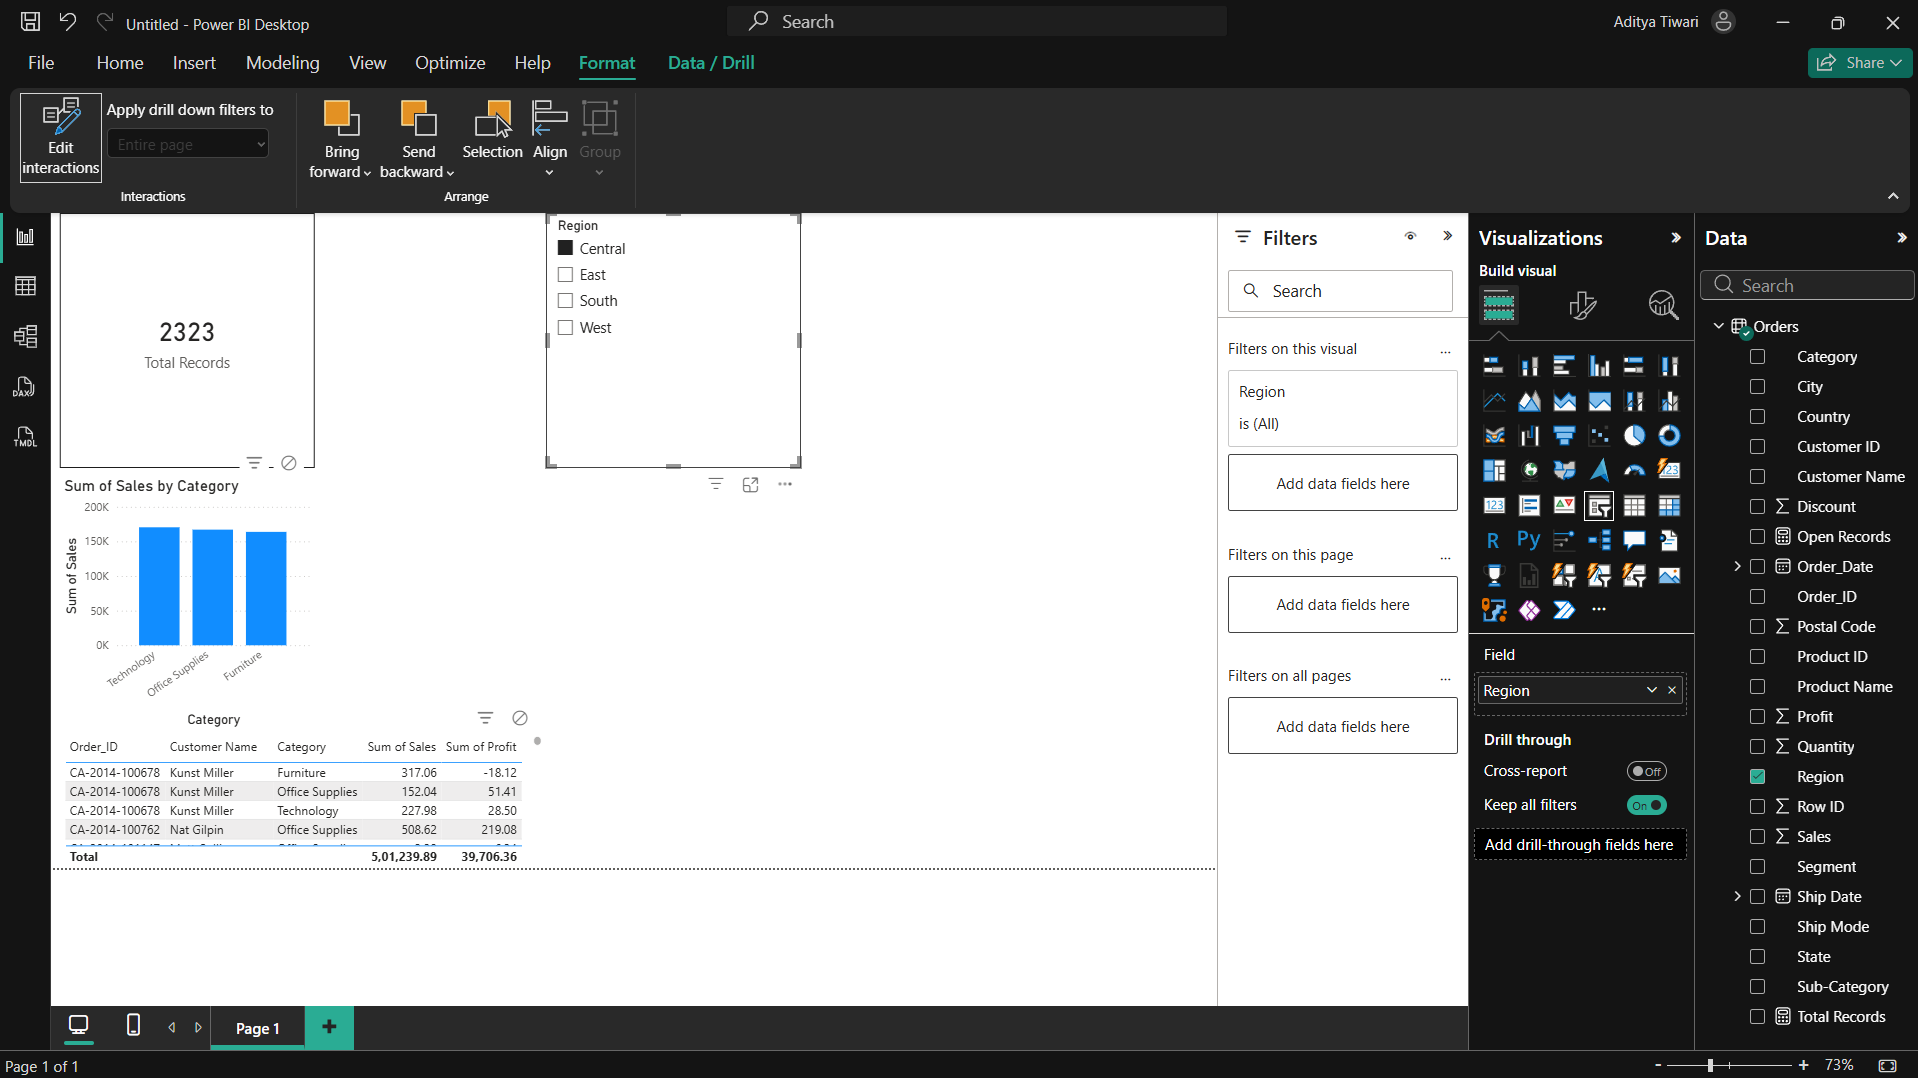

What the dashboard file says about the page in this screenshot:
{"tool":"powerbi","page":{"name":"Page 1","canvas":[1280,720],"ordinal":0},"visuals":[{"type":"card","fields":{"Values":["Orders.Total Records"]},"box":[10,0,280,280],"z":0},{"type":"clusteredColumnChart","fields":{"Category":["Orders.Category"],"Y":["Sum(Orders.Sales)"]},"box":[10,290,280,280],"z":1},{"type":"tableEx","fields":{"Values":["Orders.Order_ID","Orders.Customer Name","Orders.Category","Sum(Orders.Sales)","Sum(Orders.Profit)"]},"box":[9.6,569.5,533.8,150.9],"z":2},{"type":"slicer","fields":{"Values":["Orders.Region"]},"box":[543.4,0,279.9,279.9],"z":3}]}

Visuals, with their boxes on the page's 1280x720 design canvas (x1, y1, x2, y2). These are canvas units, not pixel positions in the 1918x1078 screenshot, which may show the page scaled, cropped or inside an application window:
card - Orders.Total Records: left=10, top=0, right=290, bottom=280
clusteredColumnChart - Orders.Category x Sum(Orders.Sales): left=10, top=290, right=290, bottom=570
tableEx - Orders.Order_ID x Orders.Customer Name: left=10, top=570, right=543, bottom=720
slicer - Orders.Region: left=543, top=0, right=823, bottom=280
